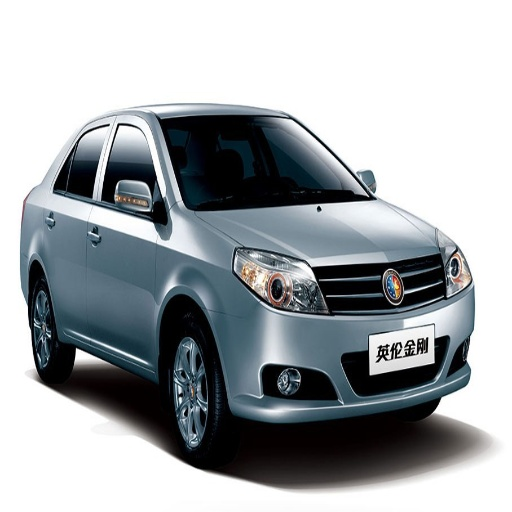front_bumper: (209, 248, 472, 416)
front_right_door: (87, 116, 168, 368)
front_right_light: (234, 247, 325, 313)
hood: (197, 200, 448, 312)
